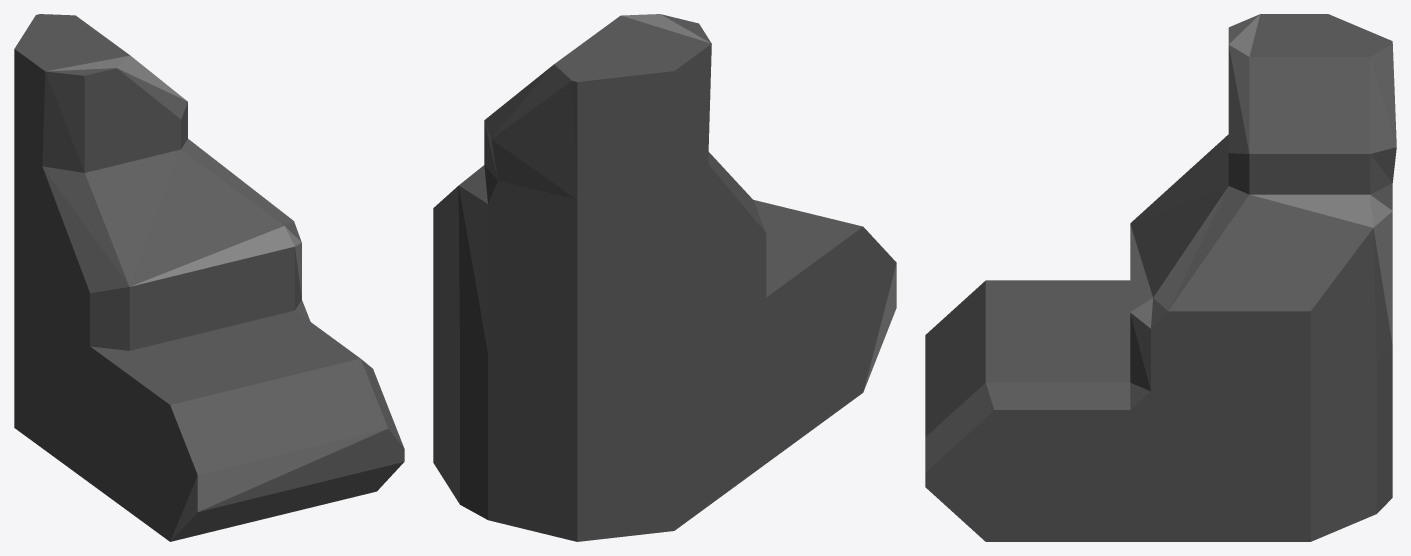
The model's file is rock_7.fbx.
3 renders of one model, left to right at view 1: azimuth 30°, elevation 25°; view 2: azimuth 150°, elevation 25°; view 3: azimuth 270°, elevation 25°, orthographic. The views are drawn at different scales.
Visible parts, largest first — view 1: rock_7; view 2: rock_7; view 3: rock_7.
Boxes of the visible parts, left/top/right/bottom form: rock_7: left=14, top=14, right=404, bottom=541; rock_7: left=433, top=14, right=896, bottom=541; rock_7: left=925, top=14, right=1396, bottom=541.
Size of the model in its own units: 60.67 by 106 by 109.
